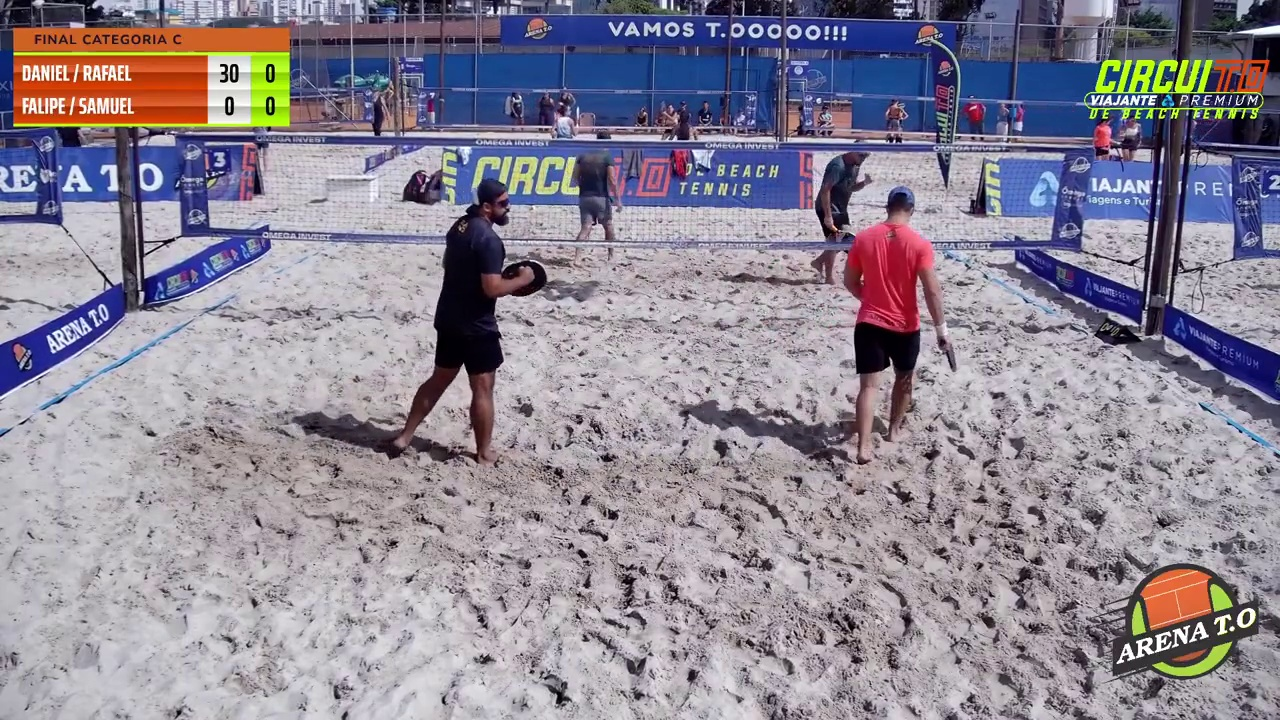court_line: (526, 0, 648, 433)
